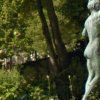Statue: (72, 2, 100, 100)
